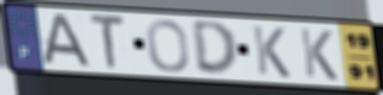A: (38, 13, 95, 69)
D: (189, 20, 241, 78)
K: (298, 26, 341, 83), (250, 23, 293, 80)
O: (145, 18, 192, 74)
T: (87, 12, 128, 72)
